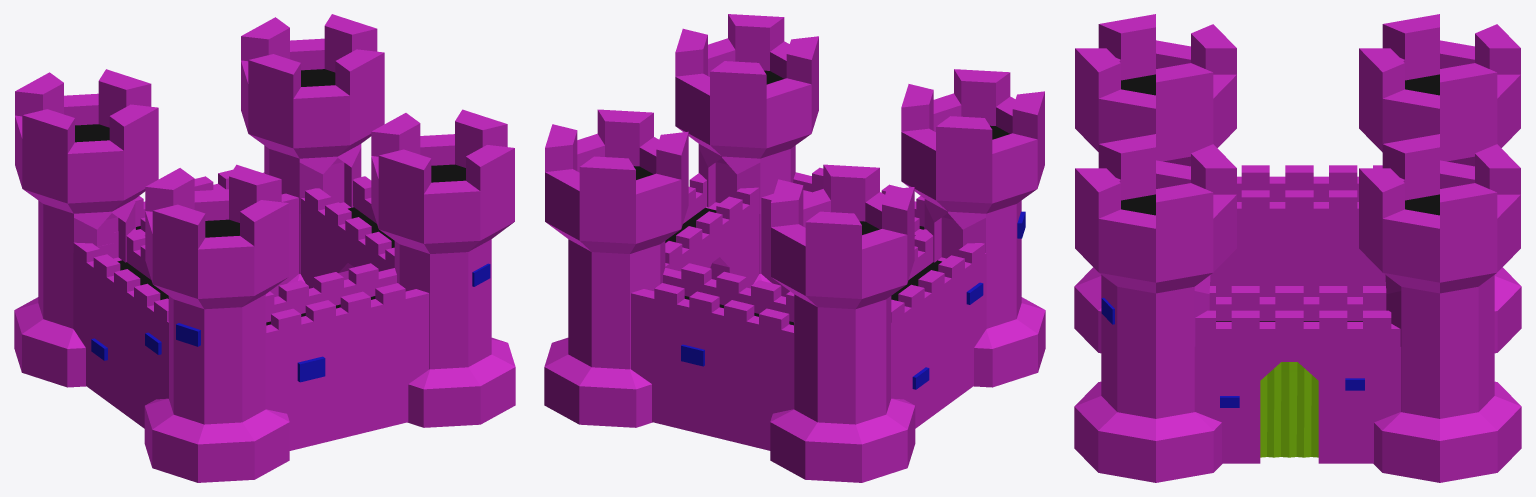
The model's file is Tower.obj.
3 views of the same model, side by side, from view 1: azimuth 30°, elevation 25°; view 2: azimuth 150°, elevation 25°; view 3: azimuth 270°, elevation 25° (orthographic). The views are drawn at different scales.
Parts seen in each view (by area): view 1: Tower; view 2: Tower; view 3: Tower.
Boxes of the visible parts, <box> form: Tower: <box>14,14,515,482</box>; Tower: <box>544,14,1045,482</box>; Tower: <box>1074,14,1521,482</box>.
Size of the model in its own units: 14.43 by 10.04 by 14.43.
